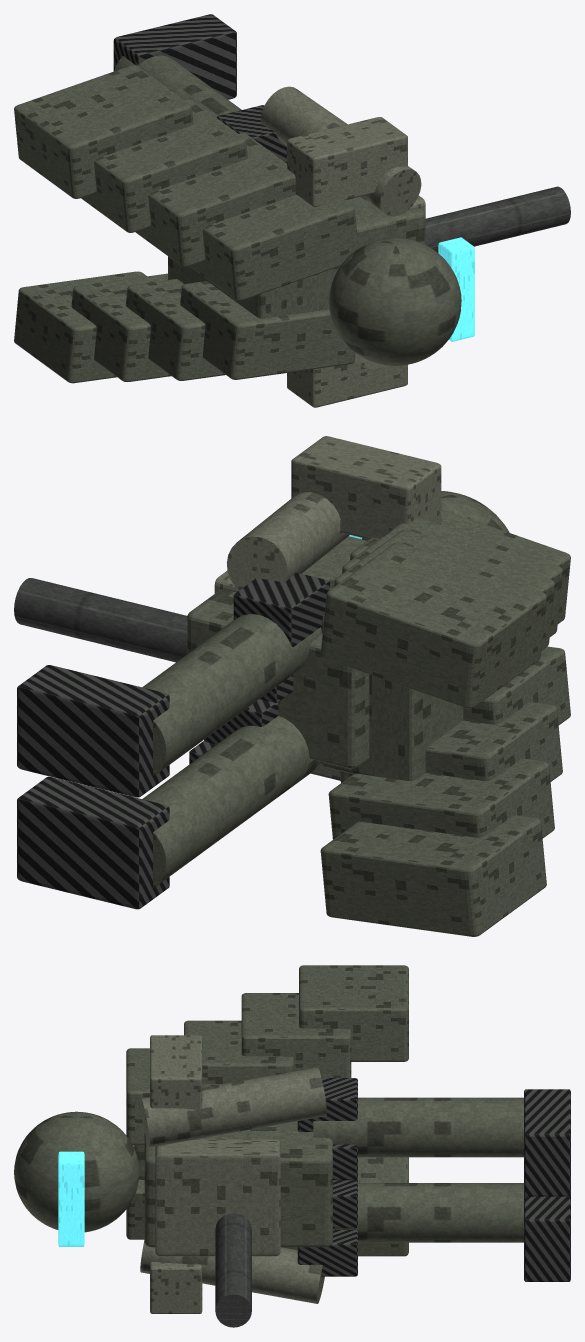
File: v-u07-vanguard-infiltrator-lod0.glb
3 renders of one model, top to bottom at view 1: azimuth 30°, elevation 25°; view 2: azimuth 150°, elevation 25°; view 3: azimuth 270°, elevation 25°, orthographic. The views are drawn at different scales.
Parts seen in each view (by area): view 1: cloak_1_3, soldier_0_helmet, cloak_1_0, cloak_-1_0, cloak_1_2, cloak_1_1, soldier_0_shoulder_1, cloak_-1_3, soldier_0_boot_1, cloak_-1_2, cloak_-1_1, soldier_0_rifle (+7 smaller); view 2: cloak_1_3, cloak_-1_3, soldier_0_boot_-1, soldier_0_boot_1, soldier_0_leg_-1, soldier_0_leg_1, cloak_-1_2, soldier_0_torso, soldier_0_shoulder_1, soldier_0_rifle, cloak_-1_1, soldier_0_backpack (+8 smaller); view 3: soldier_0_chest, soldier_0_leg_1, soldier_0_helmet, soldier_0_leg_-1, cloak_1_3, soldier_0_arm_1, soldier_0_torso, cloak_1_2, soldier_0_boot_1, soldier_0_arm_-1, soldier_0_boot_-1, soldier_0_rifle (+11 smaller).
Part boxes in pixels (x1,y1,x2,y2): cloak_1_3: (14,65,193,198); soldier_0_helmet: (329,238,461,365); cloak_1_0: (190,195,358,300); cloak_-1_0: (180,281,355,379); cloak_1_2: (81,99,247,232); cloak_1_1: (135,133,296,266); soldier_0_shoulder_1: (287,117,407,207); cloak_-1_3: (14,271,146,383); soldier_0_boot_1: (113,14,236,99); cloak_-1_2: (71,273,171,381); cloak_-1_1: (125,279,225,380); soldier_0_rifle: (425,186,570,252); cloak_1_3: (320,542,546,708); cloak_-1_3: (320,815,546,936); soldier_0_boot_-1: (17,776,169,909); soldier_0_boot_1: (17,665,169,797); soldier_0_leg_-1: (142,716,319,887); soldier_0_leg_1: (142,614,321,775); cloak_-1_2: (328,758,554,839); soldier_0_torso: (187,536,369,768); soldier_0_shoulder_1: (291,436,441,539); soldier_0_rifle: (14,578,187,662); cloak_-1_1: (340,702,562,782); soldier_0_backpack: (321,615,463,781); soldier_0_chest: (155,1139,280,1256); soldier_0_leg_1: (313,1097,523,1157); soldier_0_helmet: (14,1111,139,1232); soldier_0_leg_-1: (333,1183,523,1242); cloak_1_3: (299,965,408,1061); soldier_0_arm_1: (140,1067,326,1147); soldier_0_torso: (144,1121,332,1247); cloak_1_2: (241,993,351,1077); soldier_0_boot_1: (524,1089,570,1196); soldier_0_arm_-1: (140,1240,324,1303); soldier_0_boot_-1: (524,1194,570,1281); soldier_0_rifle: (215,1213,251,1327).
Size of what is drawn, in the model's own units: 1.91 by 1.05 by 2.13.
5 materials, 5 textured.
